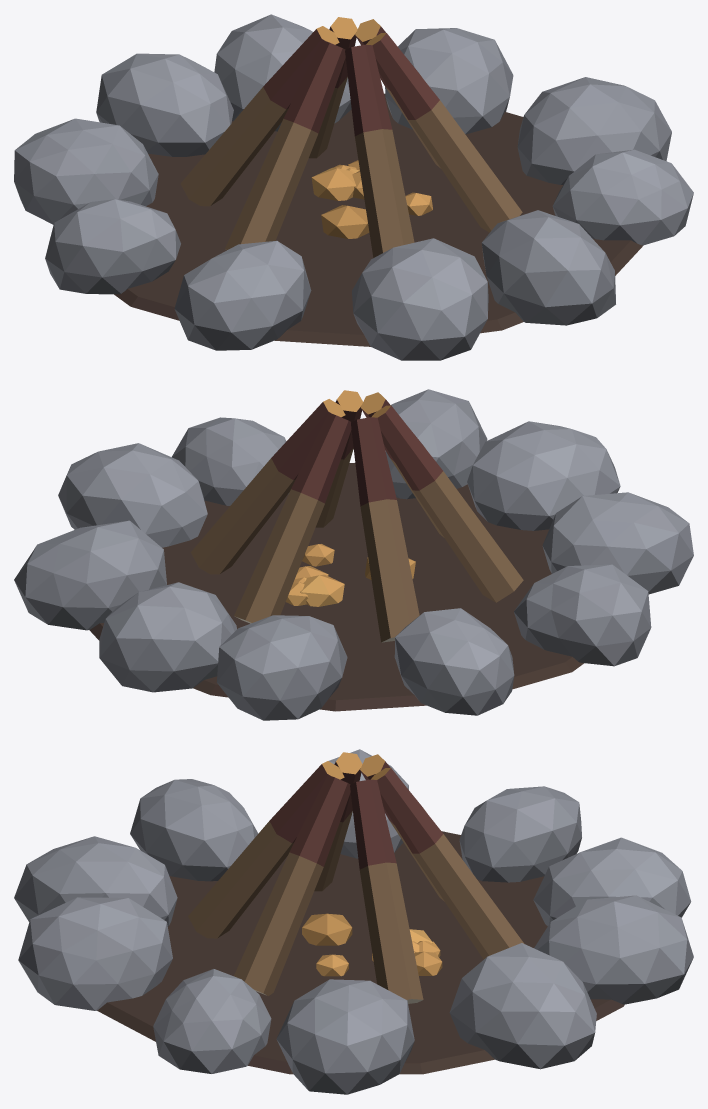
Rendered from camp.glb.
3 views of the same model, one above another, from view 1: azimuth 30°, elevation 25°; view 2: azimuth 150°, elevation 25°; view 3: azimuth 270°, elevation 25° (orthographic). The views are drawn at different scales.
Visible parts, largest first — view 1: camp; view 2: camp; view 3: camp.
Part boxes in pixels (left/top/right/bottom): camp: left=14, top=14, right=693, bottom=360; camp: left=14, top=389, right=693, bottom=720; camp: left=14, top=749, right=693, bottom=1094.
Bounding box in the file's own units: 3.45 × 1.08 × 3.44.
